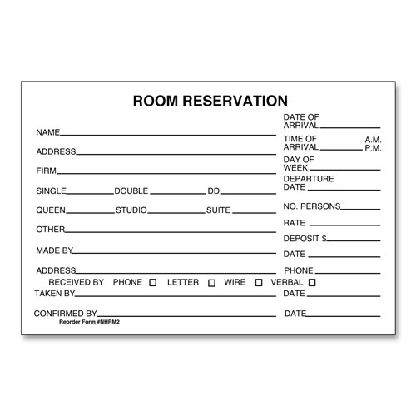checkbox: (305, 277, 318, 289), (254, 276, 264, 289), (206, 277, 217, 288), (147, 275, 157, 287)
textline: (66, 218, 278, 239), (57, 161, 278, 180), (76, 141, 277, 161), (59, 121, 275, 139), (73, 240, 276, 258), (97, 305, 278, 324), (77, 286, 278, 303), (77, 262, 279, 278), (319, 111, 383, 133), (304, 244, 381, 262), (306, 286, 383, 302), (306, 215, 382, 230), (306, 181, 381, 196), (310, 160, 383, 175), (305, 307, 383, 321), (147, 201, 206, 219), (319, 133, 364, 156), (221, 181, 277, 199), (146, 182, 207, 198), (314, 263, 382, 277), (65, 202, 116, 218), (327, 230, 381, 245), (231, 201, 277, 218), (63, 184, 115, 198), (342, 198, 384, 213)
